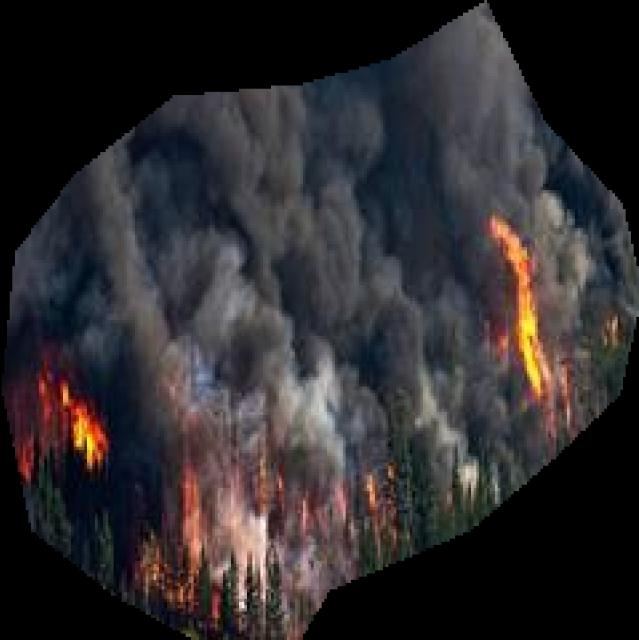fire: (1, 1, 639, 640)
